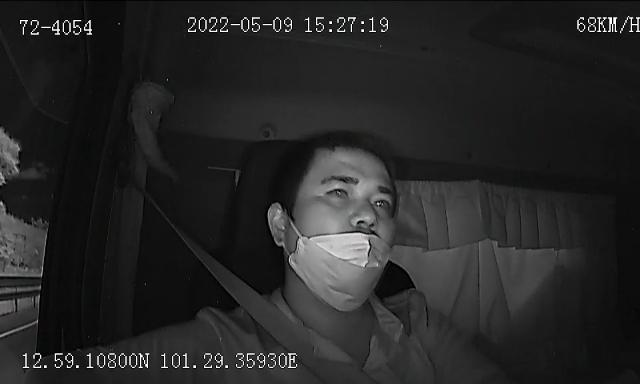SafeDriving: (322, 180, 355, 202), (366, 188, 396, 212)
Seatbelt: (171, 222, 373, 384)
